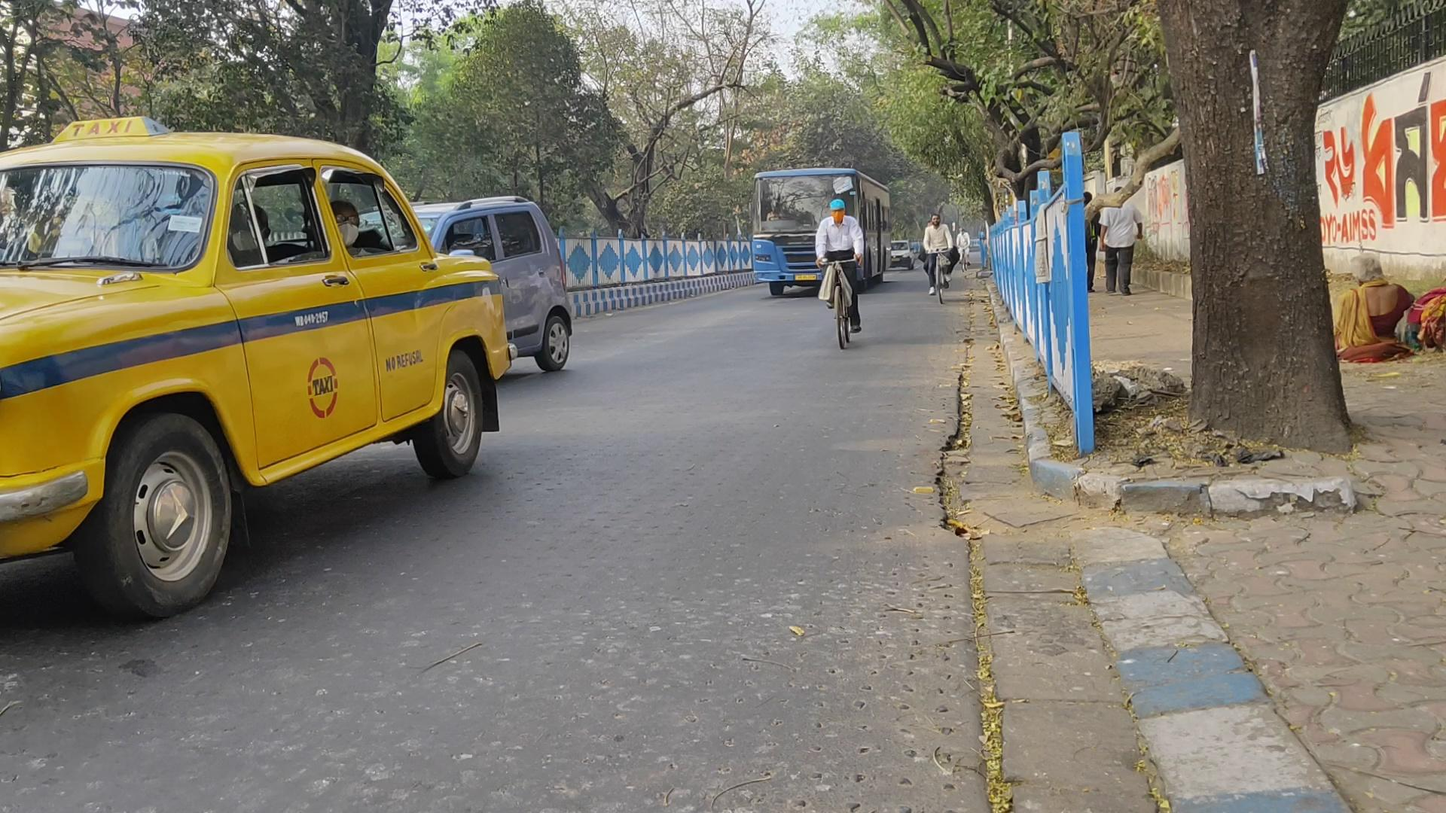Bus: (752, 168, 892, 298)
bike: (814, 199, 865, 348), (922, 214, 958, 306), (956, 227, 972, 273)
car: (2, 115, 520, 625), (410, 197, 578, 388), (891, 239, 916, 273)
